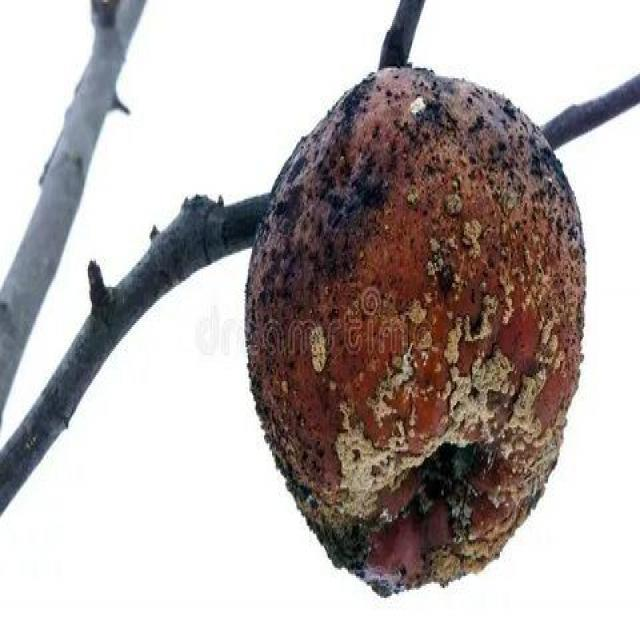Rotten: (246, 56, 582, 592)
